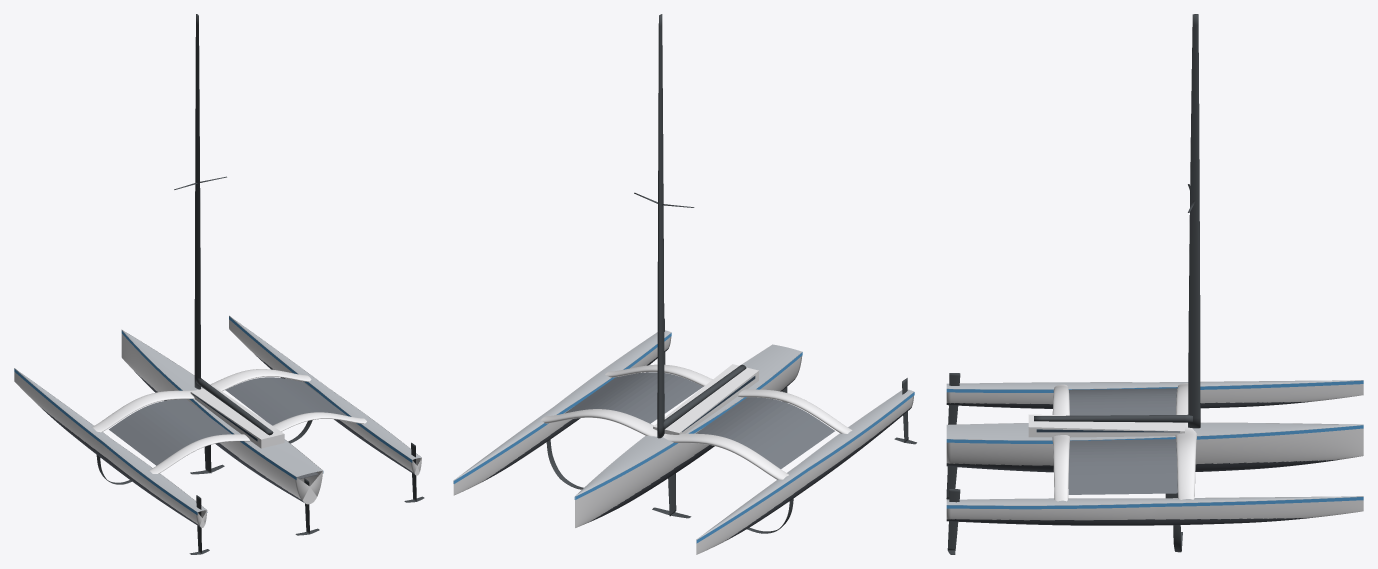
File: ultim.glb
3 renders of one model, left to right at view 1: azimuth 30°, elevation 25°; view 2: azimuth 150°, elevation 25°; view 3: azimuth 270°, elevation 25°, orthographic. The views are drawn at different scales.
Visible parts, largest first — view 1: filet, filet.001, centrale_coque, centrale_pont, flotteur_coque, pivot_mat, bras, rouf, flotteur_coque.001, flotteur_pont, flotteur_pont.001, bras.001 (+5 smaller); view 2: filet, centrale_coque, filet.001, flotteur_coque, centrale_pont, pivot_mat, bras, rouf, flotteur_coque.001, flotteur_pont, bras.001, flotteur_pont.001 (+6 smaller); view 3: centrale_coque, filet.001, flotteur_coque.001, pivot_mat, flotteur_coque, centrale_pont, filet, rouf, flotteur_pont.001, flotteur_pont, flotteur_fond.001, bras (+7 smaller).
Boxes of the visible parts, x1,y1,x2,y2 form: filet: [109, 399, 231, 465]; filet.001: [225, 377, 346, 425]; centrale_coque: [121, 330, 322, 504]; centrale_pont: [121, 329, 322, 476]; flotteur_coque: [14, 369, 207, 527]; pivot_mat: [194, 14, 200, 389]; bras: [91, 369, 311, 432]; rouf: [190, 386, 284, 448]; flotteur_coque.001: [229, 316, 421, 475]; flotteur_pont: [14, 368, 206, 512]; flotteur_pont.001: [229, 315, 421, 459]; bras.001: [149, 412, 366, 473]; filet: [696, 397, 834, 468]; centrale_coque: [575, 344, 802, 527]; filet.001: [565, 372, 703, 423]; flotteur_coque: [696, 390, 913, 554]; centrale_pont: [575, 344, 801, 496]; pivot_mat: [657, 14, 664, 438]; bras: [540, 409, 788, 479]; rouf: [653, 364, 758, 434]; flotteur_coque.001: [453, 332, 671, 495]; flotteur_pont: [696, 389, 913, 539]; bras.001: [605, 364, 852, 433]; flotteur_pont.001: [454, 330, 670, 480]; centrale_coque: [946, 422, 1363, 465]; filet.001: [1068, 439, 1177, 494]; flotteur_coque.001: [946, 496, 1363, 520]; pivot_mat: [1188, 14, 1200, 428]; flotteur_coque: [946, 380, 1363, 404]; centrale_pont: [946, 422, 1363, 440]; filet: [1069, 388, 1177, 415]; rouf: [1028, 414, 1184, 437]; flotteur_pont.001: [946, 496, 1363, 505]; flotteur_pont: [946, 380, 1363, 389]; flotteur_fond.001: [946, 517, 1312, 525]; bras: [1175, 383, 1196, 499].
Size of the model in its own units: 22.93 by 42.18 by 32.02.
